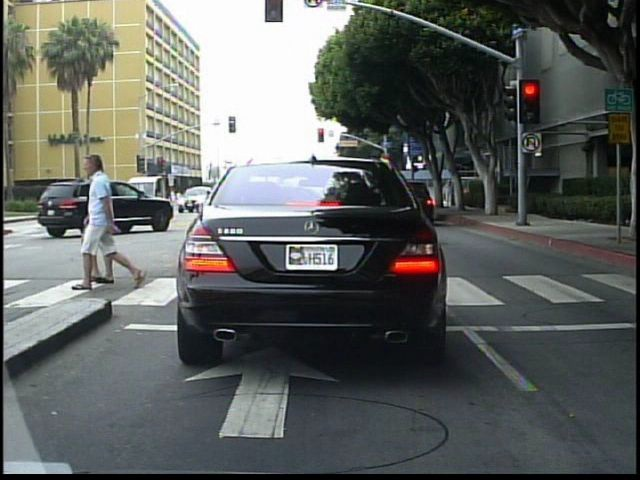person: (84, 150, 147, 293), (79, 148, 109, 289), (443, 176, 456, 211)
